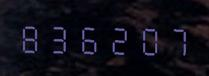eight: (17, 18, 45, 54)
seven: (163, 21, 191, 57)
six: (76, 19, 104, 55)
three: (46, 18, 74, 55)
two: (105, 20, 133, 56)
zero: (134, 20, 162, 57)
